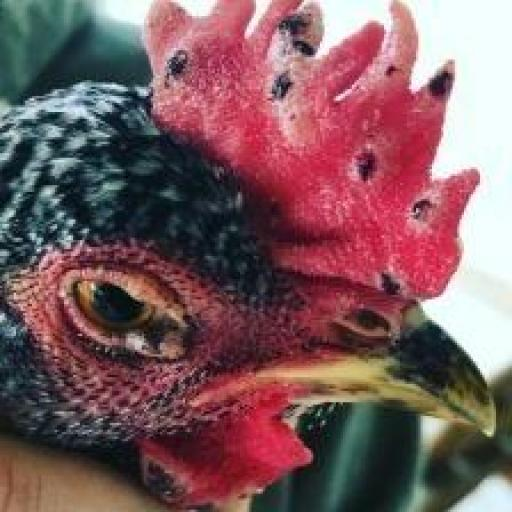disease: (143, 1, 457, 298), (56, 260, 206, 398)
